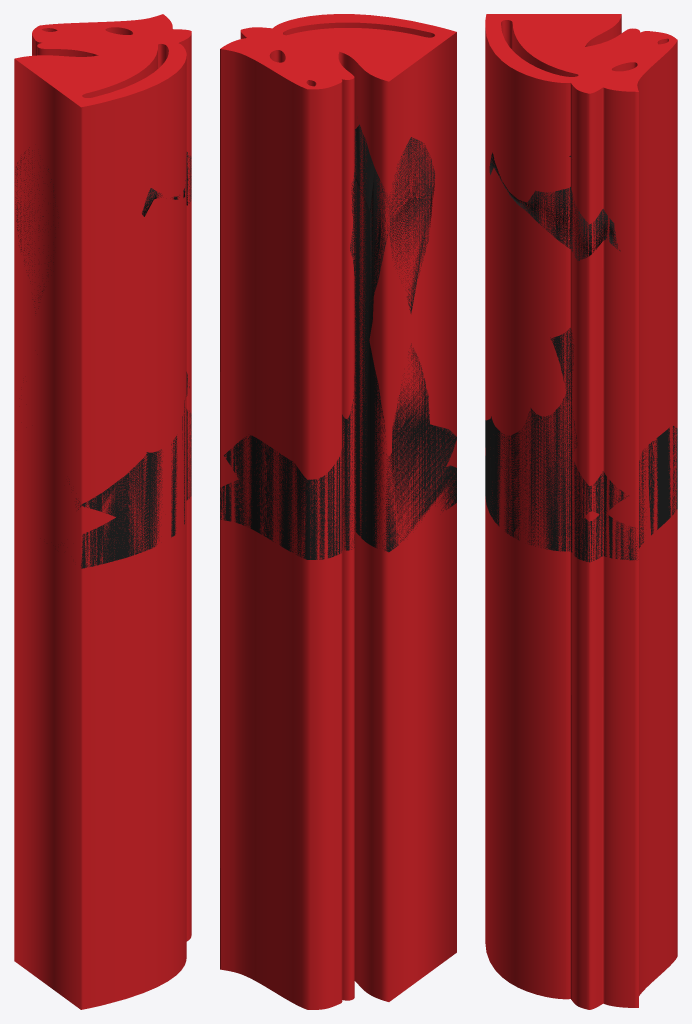
The model's file is knightv2.gltf.
3 views of the same model, side by side, from view 1: azimuth 30°, elevation 25°; view 2: azimuth 150°, elevation 25°; view 3: azimuth 270°, elevation 25° (orthographic).
Parts seen in each view (by area): view 1: Text, Knight; view 2: Text, Knight; view 3: Text, Knight.
Boxes of the visible parts, box(x1,y1,x2,y2) form: Text: box(14, 14, 191, 1009); Knight: box(15, 147, 191, 568); Text: box(220, 14, 456, 1009); Knight: box(220, 124, 456, 559); Text: box(485, 14, 677, 1009); Knight: box(485, 152, 677, 562).
Size of the model in its own units: 0.0216 by 0.1155 by 0.022.
